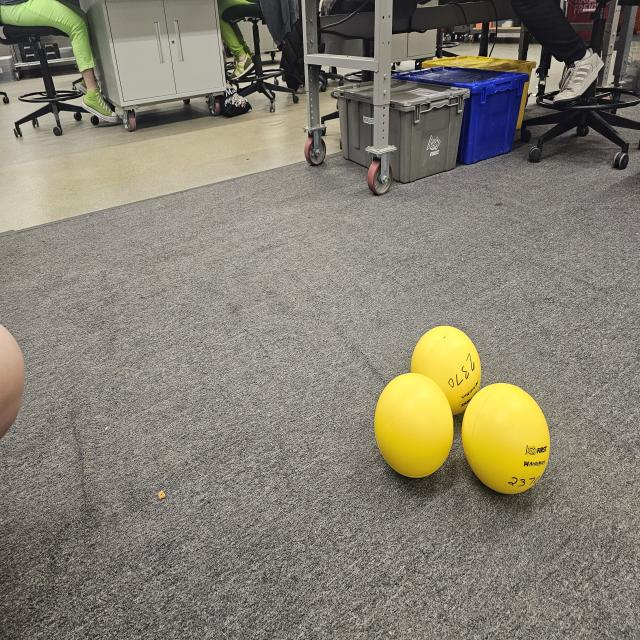Fuel: (462, 383, 550, 495), (376, 374, 453, 476), (410, 326, 481, 418)
